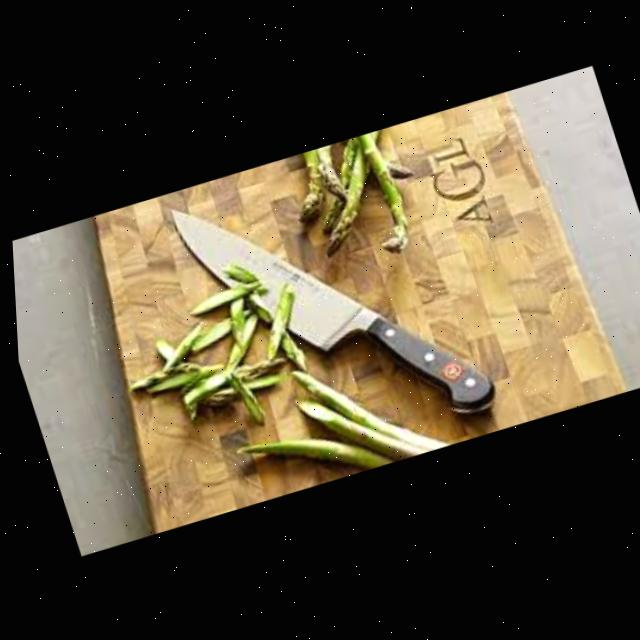Knife: (162, 135, 498, 481)
